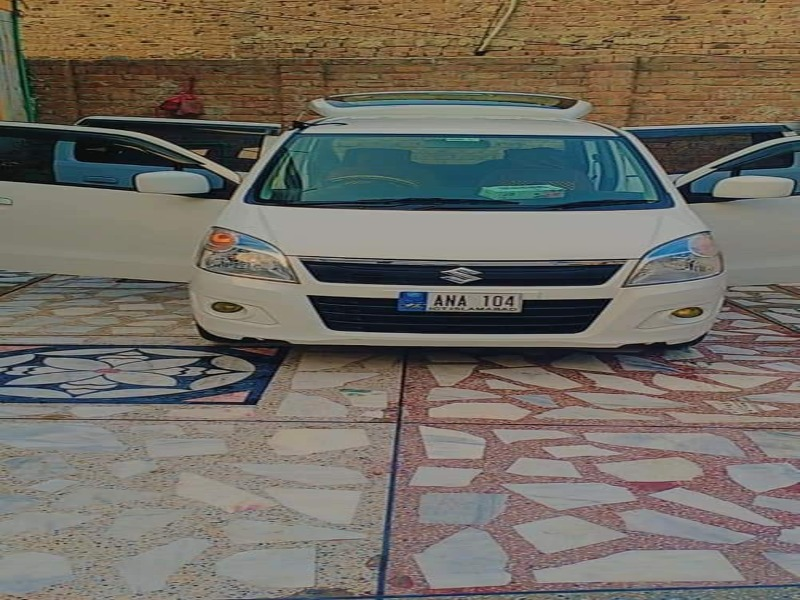License Plate: (395, 287, 525, 315)
